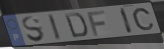C: (131, 7, 156, 32)
D: (63, 12, 89, 39)
F: (86, 9, 107, 37)
I: (46, 13, 63, 42), (119, 7, 135, 35)
S: (21, 15, 47, 44)
